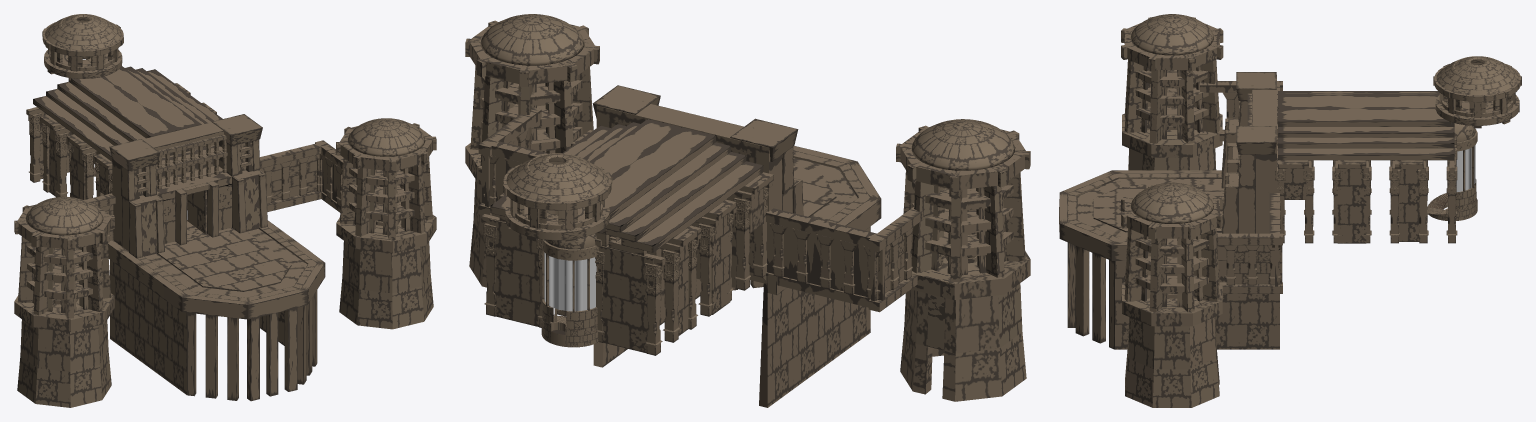
Rendered from all_together.fbx.
3 views of the same model, side by side, from view 1: azimuth 30°, elevation 25°; view 2: azimuth 150°, elevation 25°; view 3: azimuth 270°, elevation 25° (orthographic). The views are drawn at different scales.
Visible parts, largest first — view 1: plataform.007, tower.007, b.006, Cube.002, tower.004, b.001, dome, chamber.001, chamber.008, tower.005, chamber.007; view 2: Cube.002, tower.007, plataform.007, b.001, tower.004, dome, b.006, chamber.001, back_windows, chamber.008, tower.005, stairs.011 (+4 smaller); view 3: Cube.002, tower.007, plataform.007, tower.004, b.006, dome, b.001, chamber.001, chamber.008, tower.005, back_windows, chamber.007 (+1 smaller).
Part boxes in pixels (x1,y1,x2,y2): plataform.007: [108, 220, 325, 401]; tower.007: [14, 124, 436, 407]; b.006: [109, 114, 267, 258]; Cube.002: [26, 66, 222, 209]; tower.004: [14, 123, 436, 318]; b.001: [84, 140, 343, 247]; dome: [25, 118, 425, 235]; chamber.001: [42, 20, 123, 80]; chamber.008: [45, 14, 121, 50]; tower.005: [32, 168, 410, 313]; chamber.007: [61, 14, 104, 32]; Cube.002: [481, 119, 773, 355]; tower.007: [465, 22, 1030, 401]; plataform.007: [593, 146, 881, 407]; b.001: [478, 107, 923, 312]; tower.004: [465, 20, 1030, 282]; dome: [480, 14, 1015, 170]; b.006: [592, 85, 803, 250]; chamber.001: [503, 162, 612, 243]; back_windows: [544, 214, 596, 311]; chamber.008: [506, 153, 608, 202]; tower.005: [502, 80, 1005, 275]; stairs.011: [541, 315, 598, 347]; Cube.002: [1275, 91, 1457, 243]; tower.007: [1122, 23, 1222, 407]; plataform.007: [1059, 170, 1279, 349]; tower.004: [1121, 17, 1223, 312]; b.006: [1221, 72, 1276, 233]; dome: [1130, 14, 1213, 223]; b.001: [1200, 81, 1282, 293]; chamber.001: [1433, 63, 1521, 128]; chamber.008: [1436, 56, 1518, 95]; tower.005: [1141, 66, 1202, 307]; back_windows: [1454, 123, 1475, 191]; chamber.007: [1454, 56, 1500, 76].
Bounding box in the file's own units: 19790 × 11079 × 18272.
